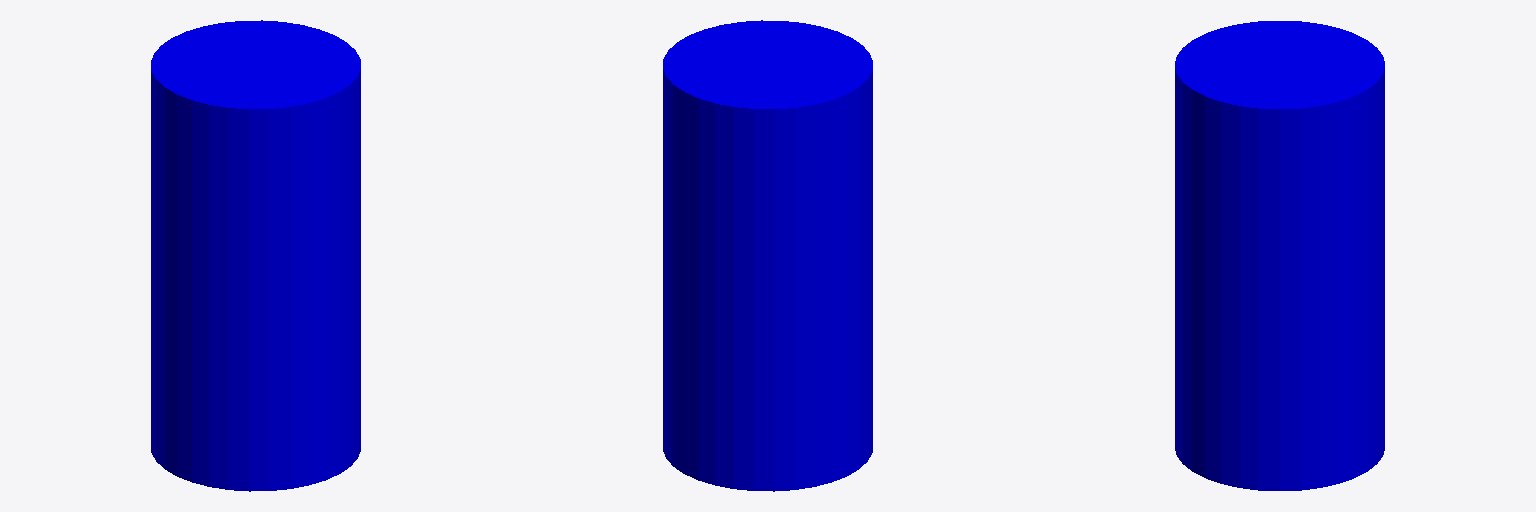
The robot description file, URDF, robot "cylinder_robot":
<?xml version="1.0"?>
<robot name="cylinder_robot">

    <!-- BASE -->
    <link name="base">
    </link>

    <joint name="base_joint" type="fixed">
        <parent link="base"/>
        <child link="base_link"/>
    </joint>

    <link name="base_link">
        <!-- 시각적 요소 -->
        <visual>
            <geometry>
                <cylinder radius="0.5" length="2"/> <!-- 반지름 0.5m, 길이 2m의 원통 -->
            </geometry>
            <material name="blue">
                <color rgba="0.0 0.0 1.0 1.0"/> <!-- 파란색 -->
            </material>
        </visual>
        <!-- 충돌 요소 -->
        <collision>
            <geometry>
                <cylinder radius="0.5" length="2"/> <!-- 충돌 감지를 위한 원통 -->
            </geometry>
        </collision>
    </link>
</robot>

--- Facts derived from the render (not from the file) ---
3 views of the same robot in one strip: view 1: azimuth 30°, elevation 25°; view 2: azimuth 150°, elevation 25°; view 3: azimuth 270°, elevation 25° (orthographic).
Model cylinder_robot with 2 links and 1 joints (1 fixed), rooted at base, posed every joint at zero.
Links seen in each view (by area): view 1: base_link; view 2: base_link; view 3: base_link.
Link boxes in pixels (box(x1,y1,x2,y2)): base_link: box(151, 20, 360, 491); base_link: box(663, 20, 872, 491); base_link: box(1175, 21, 1384, 490).
Bounding box of the posed robot: 1 × 1 × 2 m (x, y, z).
Geometry: primitives only (box / cylinder / sphere), no mesh files.
